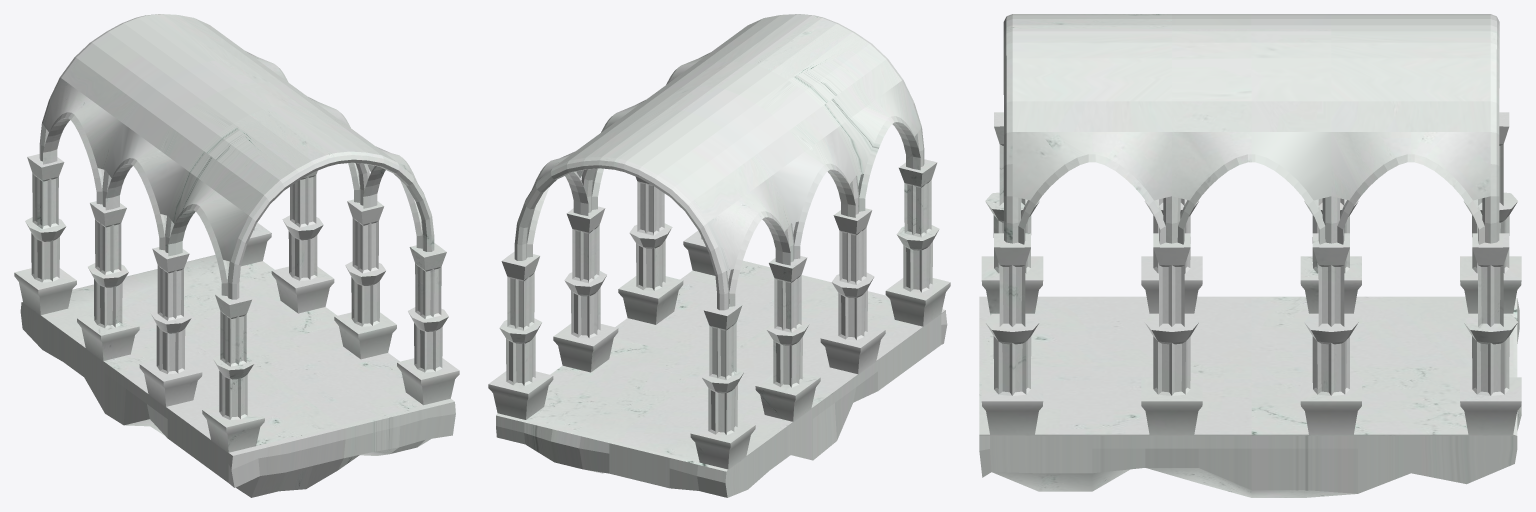
File: käytäväfinal.fbx
3 views of the same model, side by side, from view 1: azimuth 30°, elevation 25°; view 2: azimuth 150°, elevation 25°; view 3: azimuth 270°, elevation 25° (orthographic). The views are drawn at different scales.
Parts seen in each view (by area): view 1: Box003; view 2: Box003; view 3: Box003.
Part boxes in pixels (left/top/right/bottom): Box003: left=14, top=14, right=459, bottom=497; Box003: left=488, top=14, right=950, bottom=497; Box003: left=979, top=14, right=1521, bottom=497.
Bounding box in the file's own units: 3664 × 5205 × 5790.
